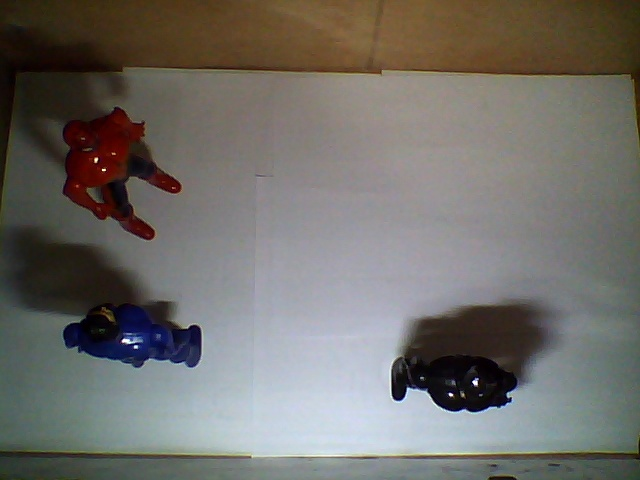human_figure: (62, 106, 183, 242), (62, 301, 203, 370), (390, 355, 518, 413)
